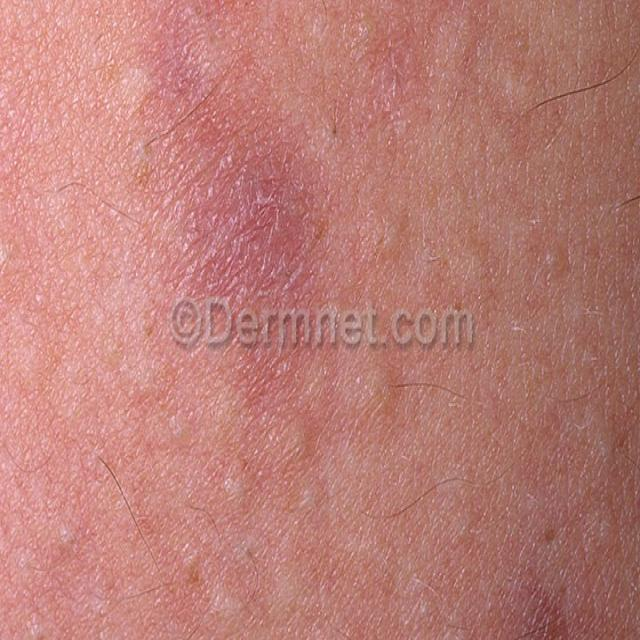acne: (568, 406, 628, 565), (358, 191, 432, 281), (204, 436, 264, 535), (534, 210, 580, 302), (356, 352, 408, 422)
